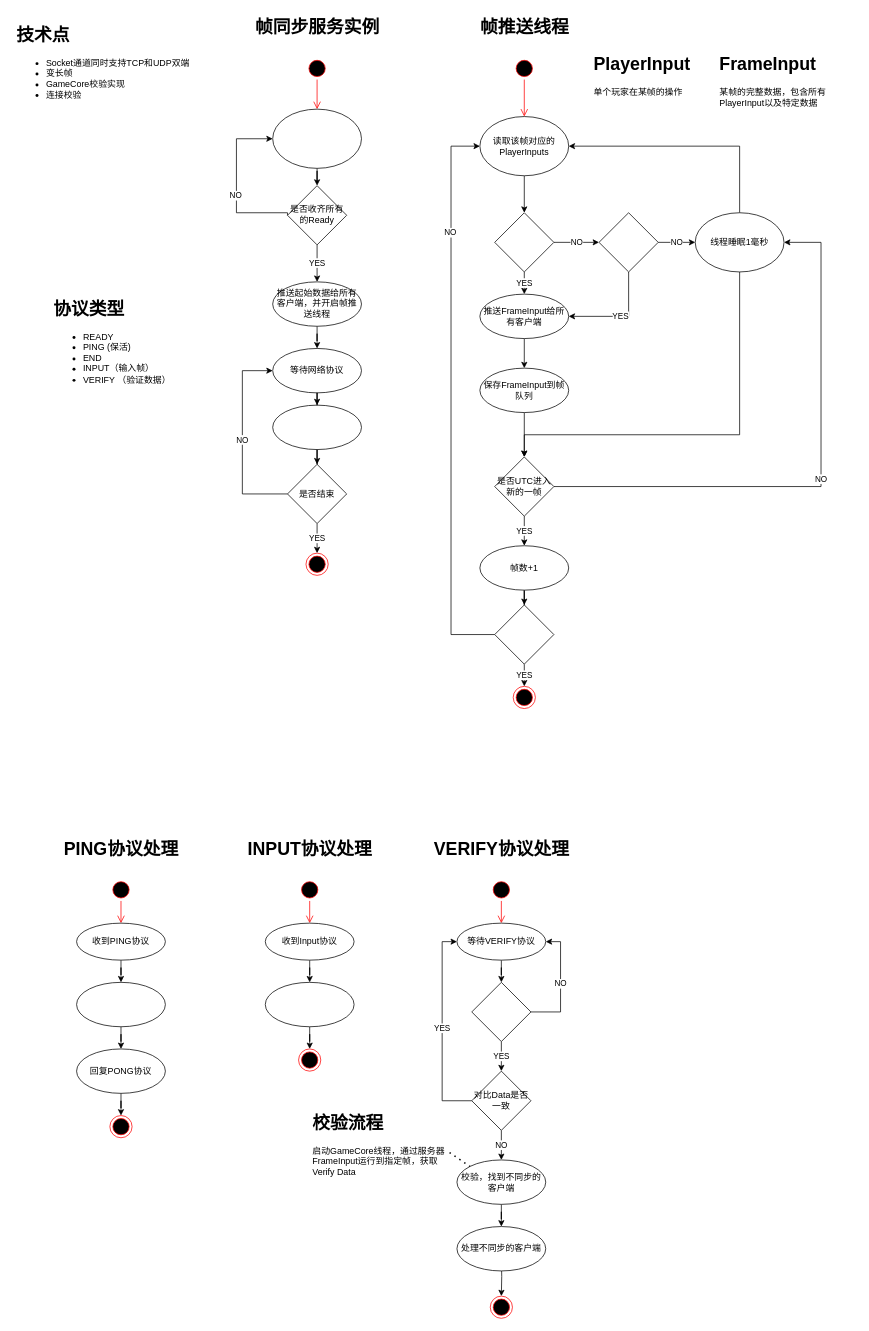
Some shapes in this 869 by 1331 pixel diagram are drawn without their labels. The shapes that lost their labels are listed below. From the top down, each one's box as (x1, y1, x2, y2) in pixels, then its label:
(272, 108, 361, 168): 等待接收Ready协议
(494, 212, 554, 272): 是否收齐所有的PlayerInput
(598, 212, 658, 272): 是否到达发送限定时间
(272, 404, 361, 450): 处理网络协议
(494, 604, 554, 664): 线程是否终止
(76, 982, 165, 1027): 附加当前服务器时间戳
(265, 982, 354, 1027): 在字典中保存Input协议
(471, 982, 531, 1042): 是否收到所有玩家的Verify
